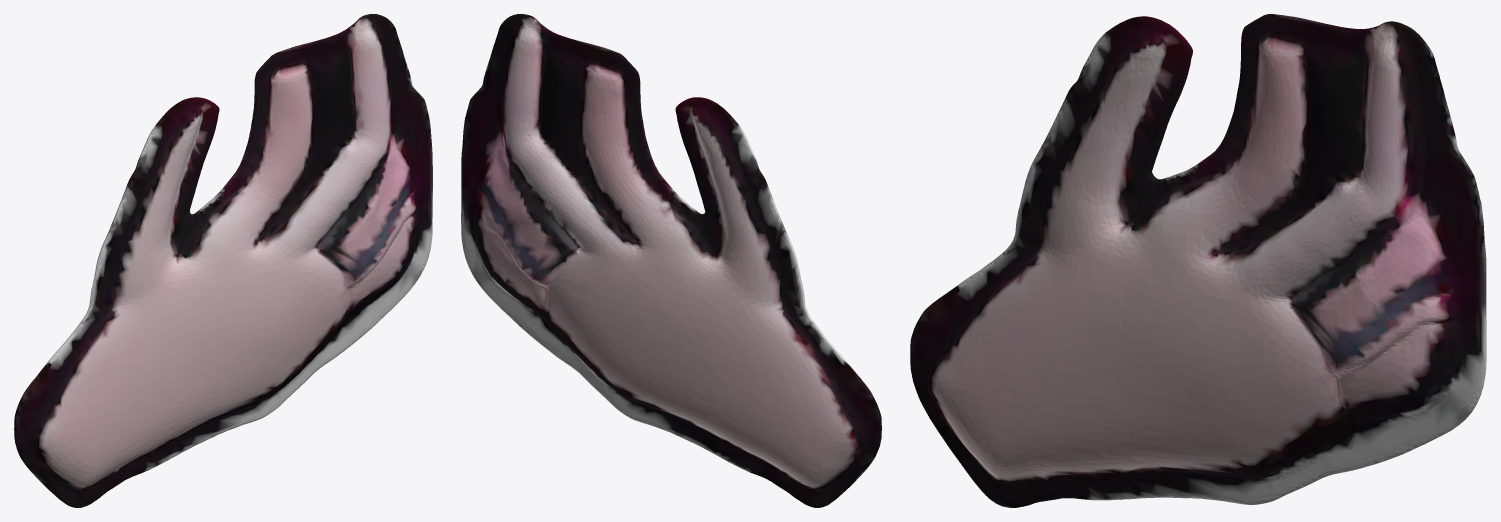
File: hand.glb
The picture shows the model from 3 angles, left to right: view 1: azimuth 30°, elevation 25°; view 2: azimuth 150°, elevation 25°; view 3: azimuth 330°, elevation 25°; orthographic projection. The views are drawn at different scales.
Visible parts, largest first — view 1: geometry_0; view 2: geometry_0; view 3: geometry_0.
Part boxes in pixels (x1,y1,x2,y2): geometry_0: [14, 14, 432, 507]; geometry_0: [461, 14, 881, 507]; geometry_0: [910, 14, 1486, 507].
Bounding box in the file's own units: 0.5 × 0.4822 × 0.0731.
